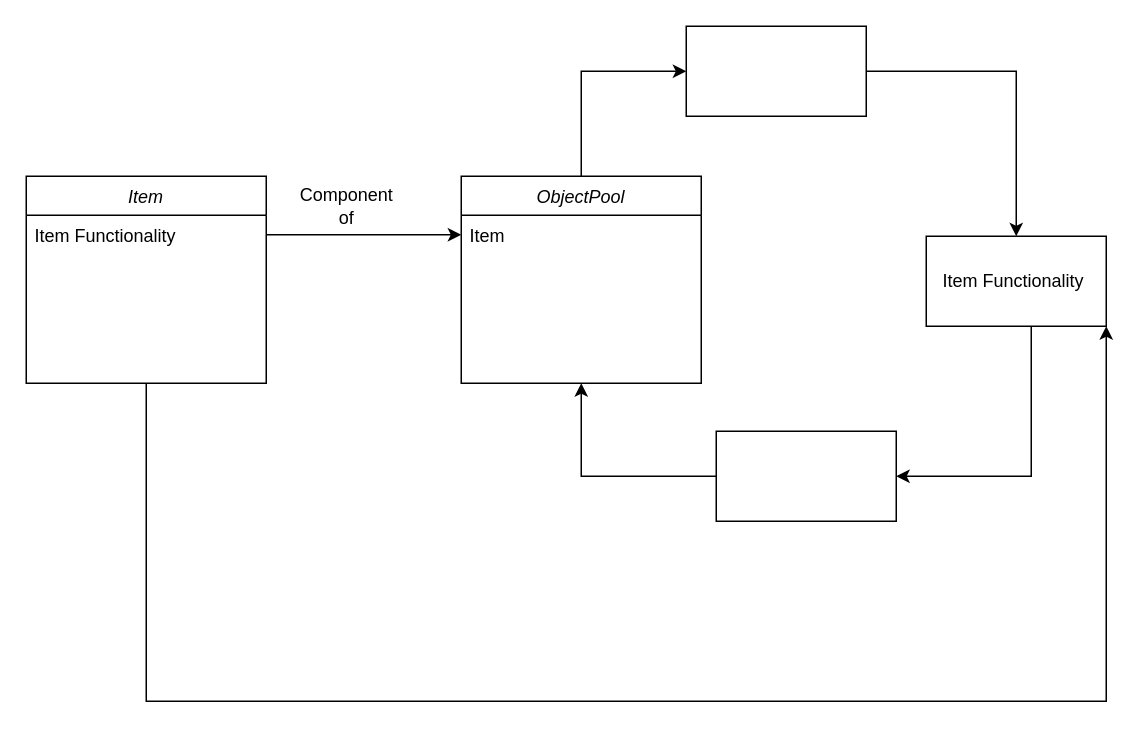
This 1145x740 diagram has some shape labels left out. The shapes that lost their labels are listed below. From the top down, each one's centre as x and y in pixels, then its label:
the point at 775,70: Use Item
the point at 805,475: Return Item
